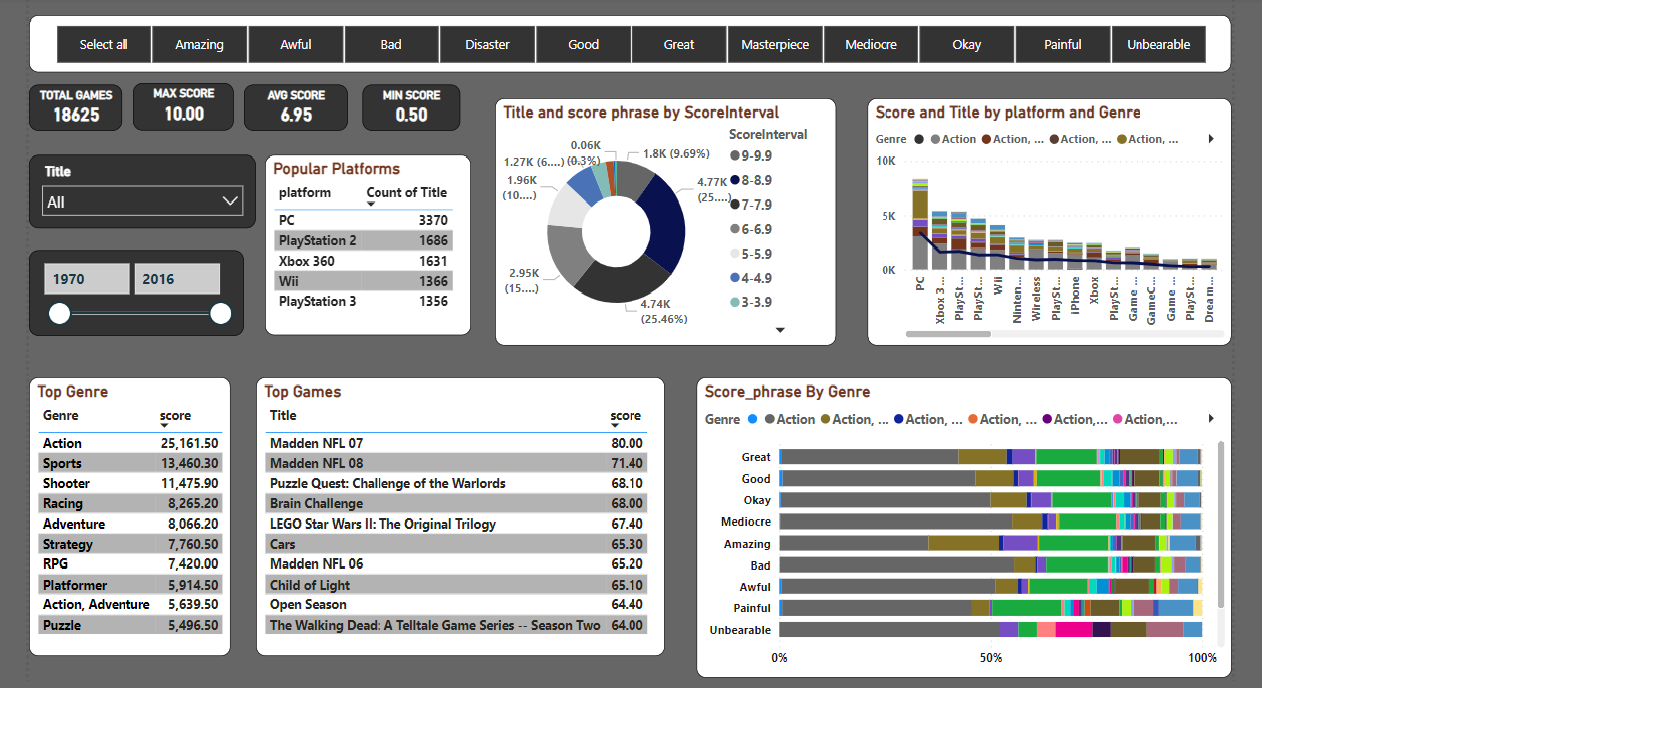

The page's visual inventory and layout, read from the dashboard file:
{"tool":"powerbi","page":{"name":"Games_Score_Analysis","canvas":[1280,720],"ordinal":0},"visuals":[{"type":"card","title":"MAX SCORE","fields":{"Values":["Max(ign.score)"]},"box":[111.3,89,106.5,49.3],"z":0},{"type":"card","title":"MIN SCORE","fields":{"Values":["Min(ign.score)"]},"box":[354.4,90.6,104.9,47.7],"z":1000},{"type":"card","title":"AVG SCORE","fields":{"Values":["Avg(ign.score)"]},"box":[228.9,90.6,109.7,47.7],"z":2000},{"type":"slicer","fields":{"Values":["ign.release_year"]},"box":[0,262.3,228.9,89],"z":3000},{"type":"slicer","fields":{"Values":["ign.score_phrase"]},"box":[0,19.1,1279.5,58.8],"z":4000},{"type":"card","title":"TOTAL GAMES","fields":{"Values":["CountNonNull(ign.title)"]},"box":[0,90.6,98.5,47.7],"z":5000},{"type":"lineStackedColumnComboChart","title":"Score and Title by platform and Genre","fields":{"Category":["ign.platform"],"Series":["ign.genre"],"Y":["Sum(ign.score)"],"Y2":["CountNonNull(ign.title)"]},"box":[891.7,104.9,387.8,255.9],"z":6000},{"type":"hundredPercentStackedBarChart","title":"Score_phrase By Genre","fields":{"Category":["ign.score_phrase"],"Series":["ign.genre"],"Y":["CountNonNull(ign.Genre)"]},"box":[710.5,394.2,569,311.5],"z":7000},{"type":"slicer","fields":{"Values":["ign.title"]},"box":[0,163.7,241.6,76.3],"z":8000},{"type":"donutChart","title":"Title and score phrase by ScoreInterval","fields":{"Category":["ign.ScoreInterval"],"Y":["CountNonNull(ign.title)"]},"box":[495.9,104.9,362.4,255.9],"z":10000},{"type":"tableEx","title":"Top Genre","fields":{"Values":["ign.genre","Sum(ign.score)"]},"box":[0,394.2,214.6,289.3],"z":11000},{"type":"tableEx","title":"Popular Platforms","fields":{"Values":["ign.platform","ign.title"]},"box":[251.1,163.7,219.3,187.5],"z":12000},{"type":"tableEx","title":"Top Games","fields":{"Values":["ign.Title","Sum(ign.score)"]},"box":[241.6,394.2,435.5,289.3],"z":13000}]}

Visuals, with their boxes on the page's 1280x720 design canvas (x1, y1, x2, y2). These are canvas units, not pixel positions in the 1678x736 screenshot, which may show the page scaled, cropped or inside an application window:
"MAX SCORE" card: BBox(111, 89, 218, 138)
"MIN SCORE" card: BBox(354, 91, 459, 138)
"AVG SCORE" card: BBox(229, 91, 339, 138)
slicer - ign.release_year: BBox(0, 262, 229, 351)
slicer - ign.score_phrase: BBox(0, 19, 1280, 78)
"TOTAL GAMES" card: BBox(0, 91, 98, 138)
"Score and Title by platform and Genre" lineStackedColumnComboChart: BBox(892, 105, 1280, 361)
"Score_phrase By Genre" hundredPercentStackedBarChart: BBox(710, 394, 1280, 706)
slicer - ign.title: BBox(0, 164, 242, 240)
"Title and score phrase by ScoreInterval" donutChart: BBox(496, 105, 858, 361)
"Top Genre" tableEx: BBox(0, 394, 215, 684)
"Popular Platforms" tableEx: BBox(251, 164, 470, 351)
"Top Games" tableEx: BBox(242, 394, 677, 684)
